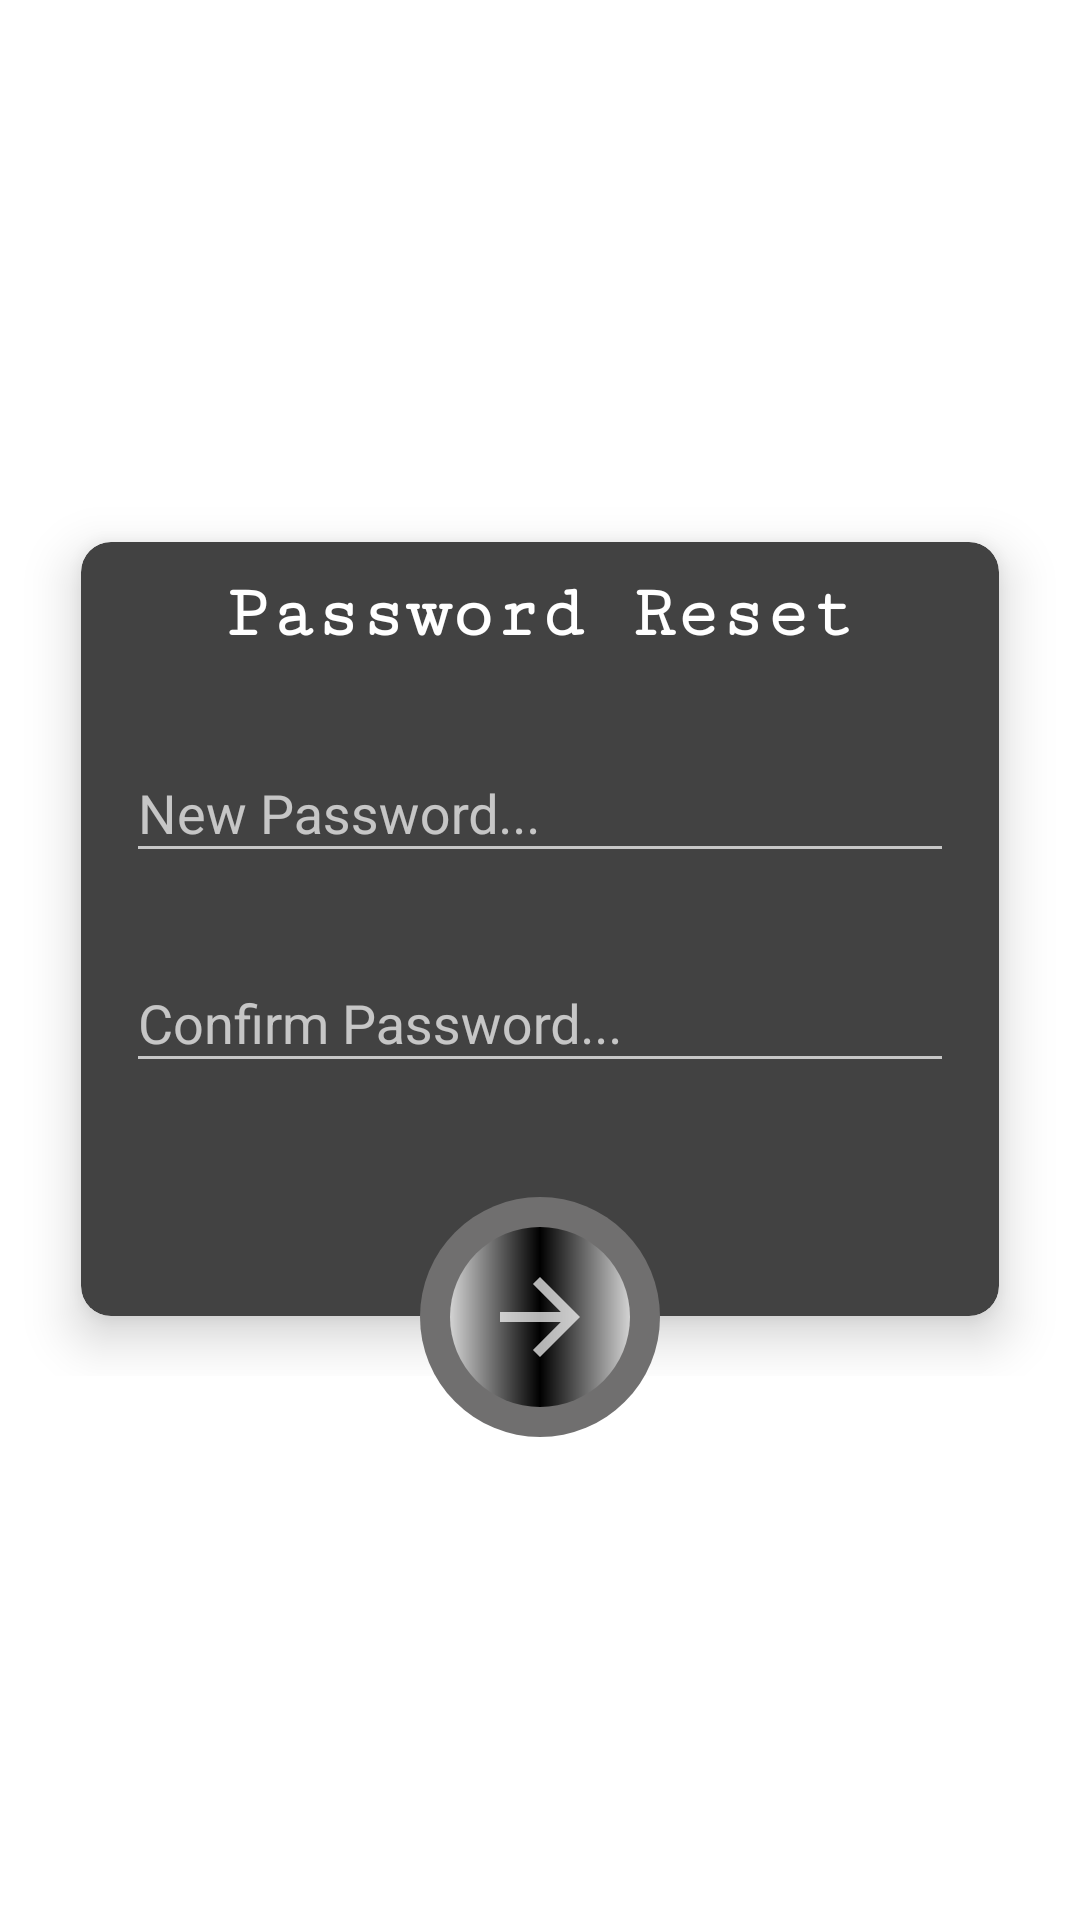

Screen size 1080w x 1920h. Icon name, then its center in pixels as [x,y]:
arrow forward: [540,1317]
